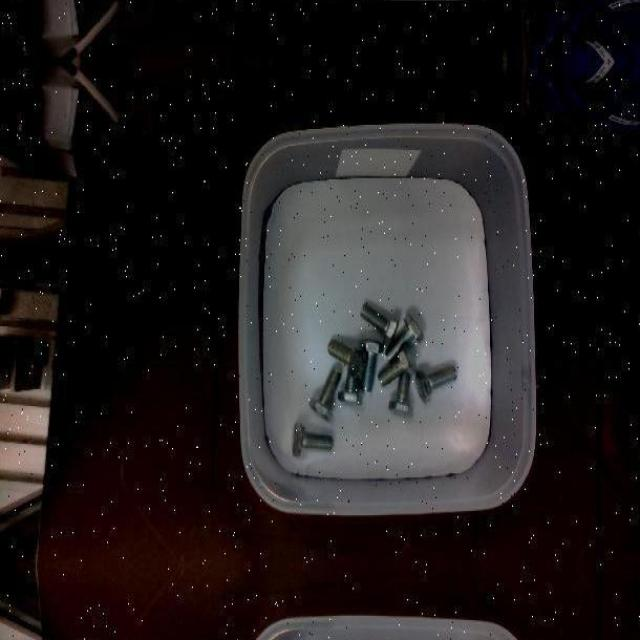screw: (308, 367, 341, 420), (360, 303, 399, 347), (414, 364, 456, 403), (378, 345, 417, 387), (328, 339, 368, 378), (292, 421, 332, 456)
